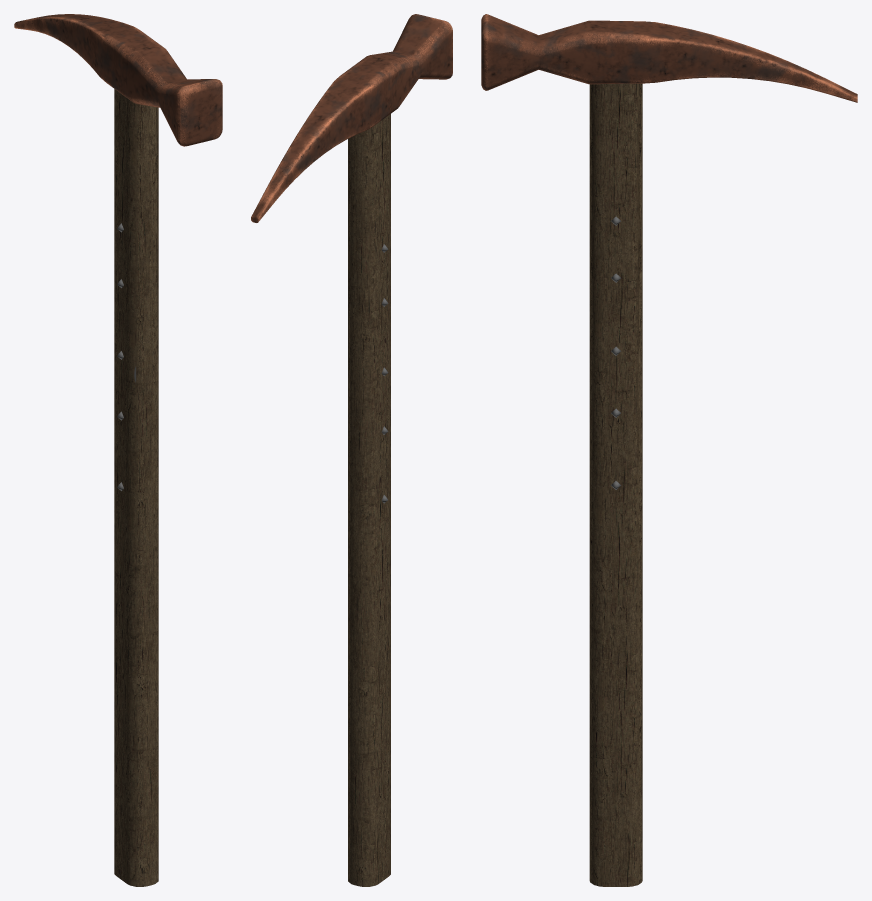
Rendered from Battle  Hammer.fbx.
The picture shows the model from 3 angles, left to right: view 1: azimuth 30°, elevation 25°; view 2: azimuth 150°, elevation 25°; view 3: azimuth 270°, elevation 25°; orthographic projection. The views are drawn at different scales.
Parts seen in each view (by area): view 1: Handle, Head; view 2: Handle, Head; view 3: Handle, Head.
Part boxes in pixels (x1=…): Handle: x1=114, y1=89, x2=158, y2=886; Head: x1=14, y1=14, x2=222, y2=146; Handle: x1=348, y1=114, x2=390, y2=886; Head: x1=251, y1=14, x2=452, y2=222; Handle: x1=589, y1=83, x2=642, y2=886; Head: x1=481, y1=14, x2=857, y2=102.
Size of the model in its own units: 3 by 53.39 by 21.25.
Materials: 3 (3 with a texture image).
